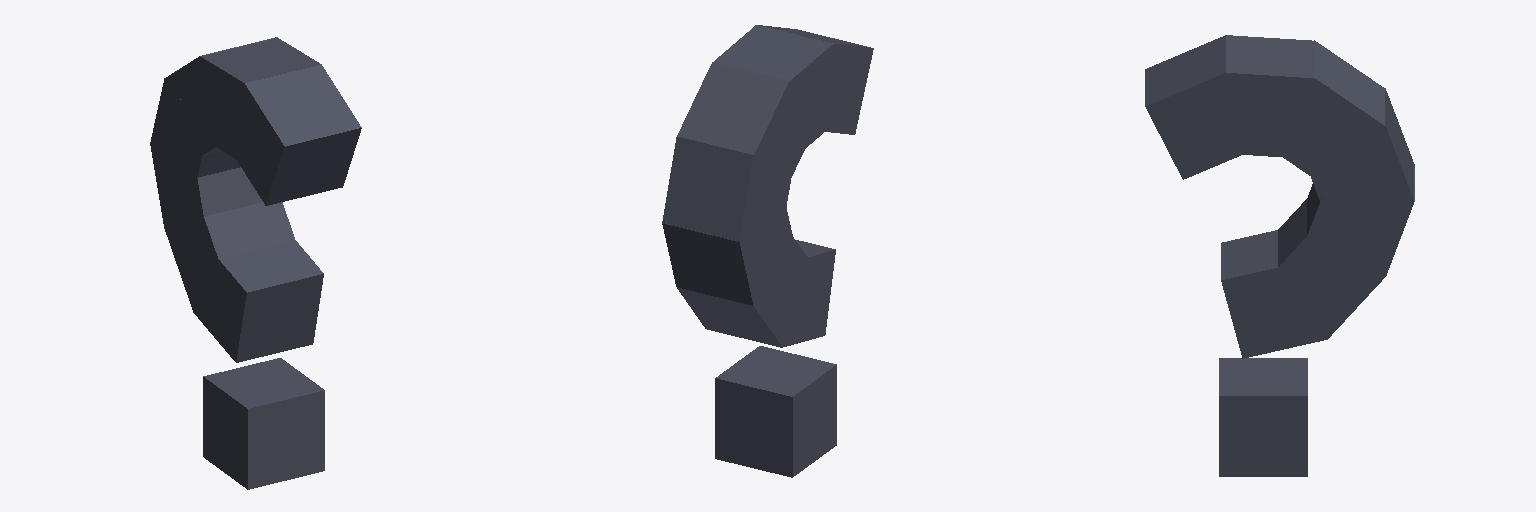
File: customrigpreview.obj
3 renders of one model, left to right at view 1: azimuth 30°, elevation 25°; view 2: azimuth 150°, elevation 25°; view 3: azimuth 270°, elevation 25°, orthographic.
Parts seen in each view (by area): view 1: Union1, Part1; view 2: Union1, Part1; view 3: Union1, Part1.
Part boxes in pixels (left/top/right/bottom): Union1: left=150, top=37, right=361, bottom=362; Part1: left=203, top=358, right=324, bottom=489; Union1: left=662, top=25, right=873, bottom=347; Part1: left=715, top=346, right=836, bottom=477; Union1: left=1145, top=35, right=1414, bottom=358; Part1: left=1219, top=358, right=1307, bottom=476.
Size of the model in its own units: 1 by 5 by 3.02.